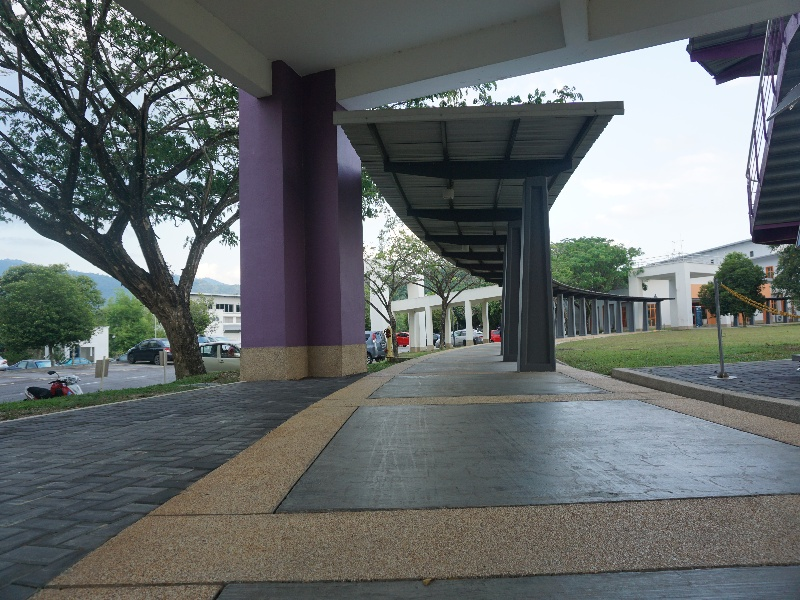Block D Pillar 6: (7, 9, 800, 477)
pillar: (222, 54, 383, 373), (513, 173, 567, 366)
